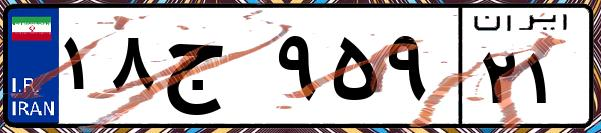1: (57, 26, 110, 100), (525, 38, 570, 115)
2: (475, 38, 525, 113)
5: (330, 28, 385, 110)
8: (110, 28, 158, 98)
9: (270, 28, 330, 110), (385, 28, 445, 110)
ج: (158, 20, 270, 120)
